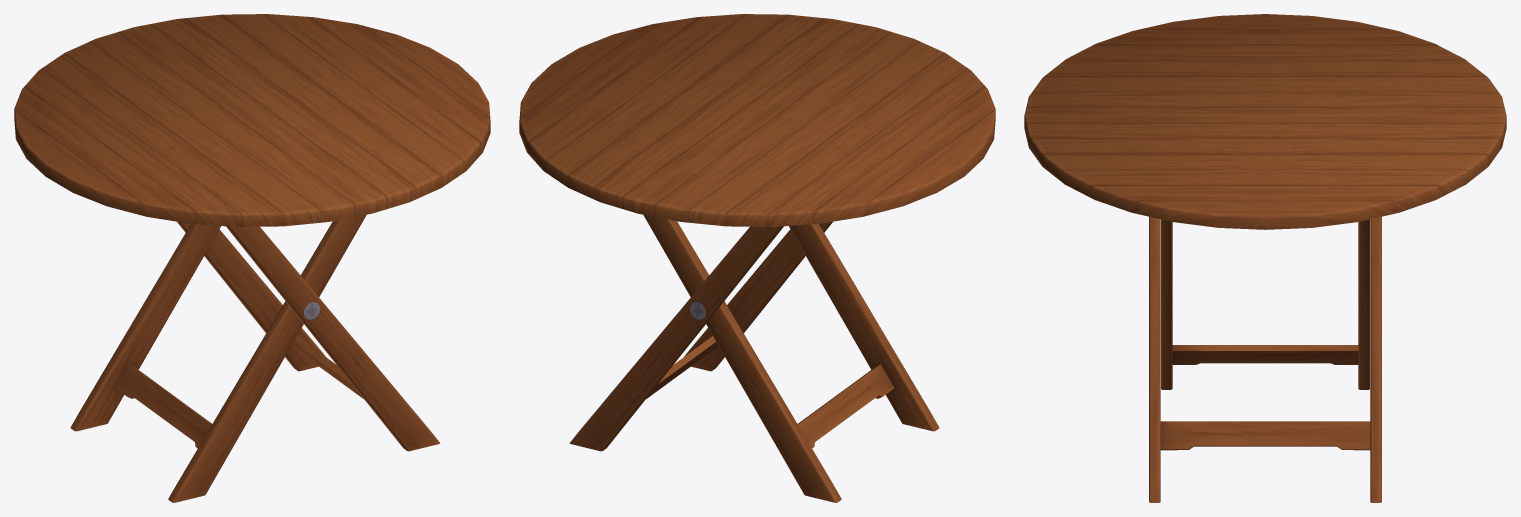
File: StreetCafeSet02_1.FBX
The picture shows the model from 3 angles, left to right: view 1: azimuth 30°, elevation 25°; view 2: azimuth 150°, elevation 25°; view 3: azimuth 270°, elevation 25°; orthographic projection.
Parts seen in each view (by area): view 1: StreetCafeSet02_1; view 2: StreetCafeSet02_1; view 3: StreetCafeSet02_1.
Part boxes in pixels (<box>): StreetCafeSet02_1: <box>14,14,490,502</box>; StreetCafeSet02_1: <box>519,14,995,502</box>; StreetCafeSet02_1: <box>1024,14,1506,502</box>.
Size of what is drawn, in the model's own units: 1.28 by 0.9427 by 1.28.
